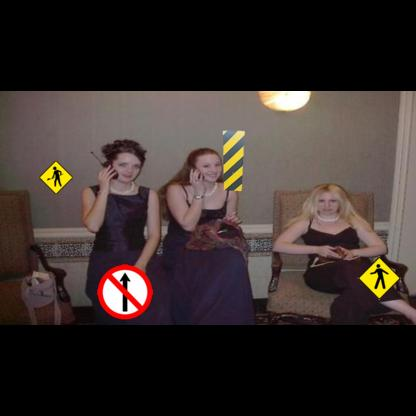A-24: (39, 160, 73, 195)
A-32a: (358, 257, 401, 300)
O-MP: (223, 131, 245, 191)
R-3: (97, 264, 153, 319)
